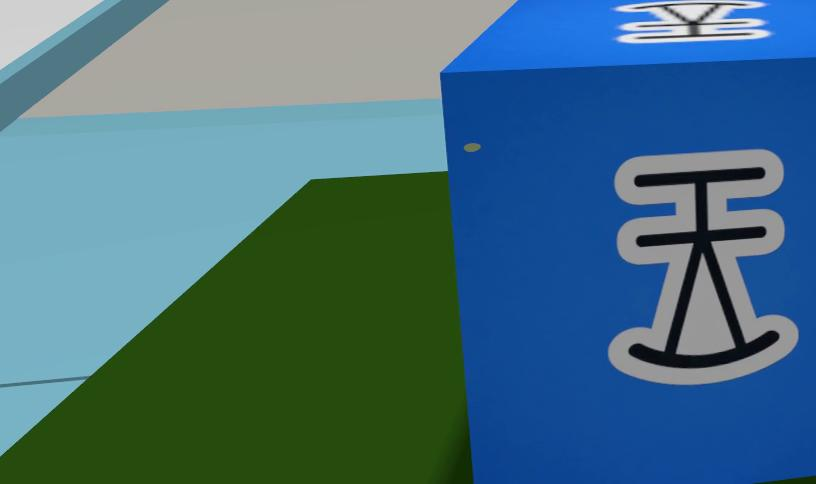KFS_REAL: (442, 0, 816, 483), (609, 150, 796, 384), (615, 1, 769, 42), (502, 172, 502, 185)
